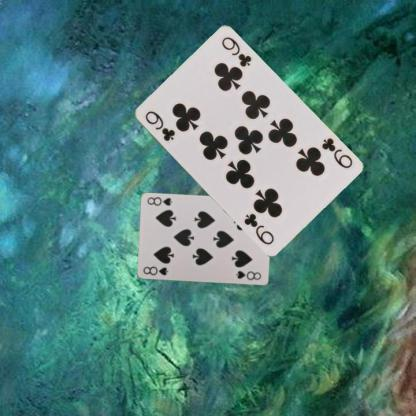8s: (140, 264, 170, 277)
9c: (318, 135, 354, 170), (142, 108, 176, 143)
